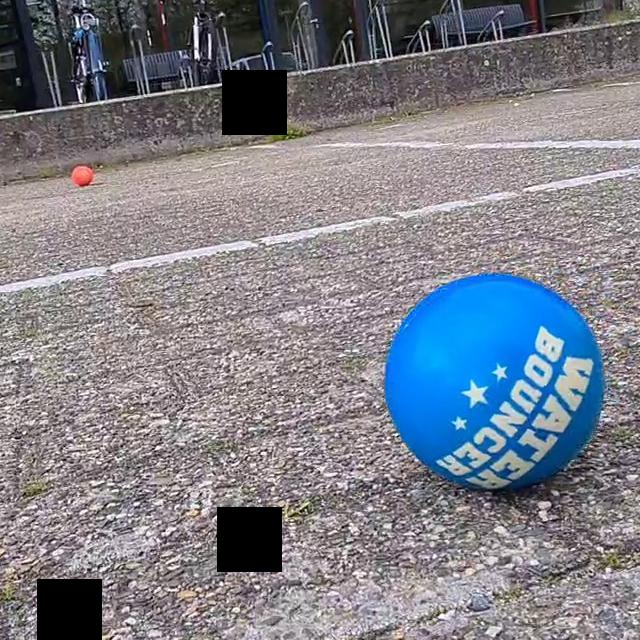ball: (68, 160, 94, 190)
